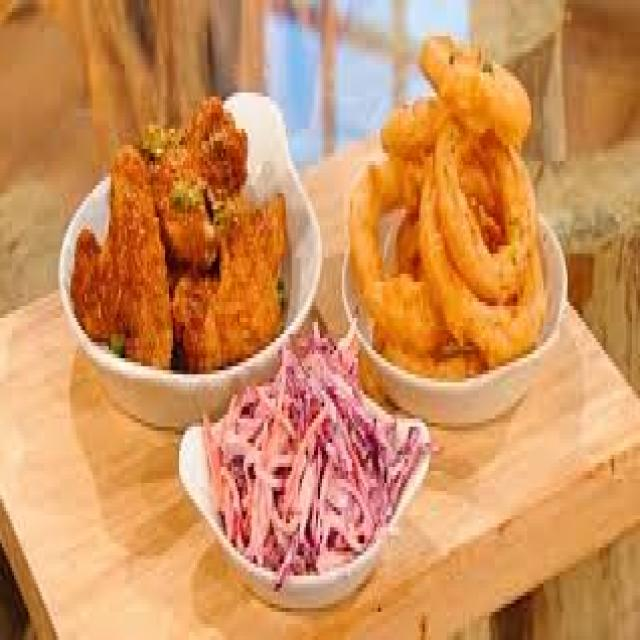Chicken Wings: (70, 85, 298, 366)
Onion Rings: (346, 20, 558, 378)
